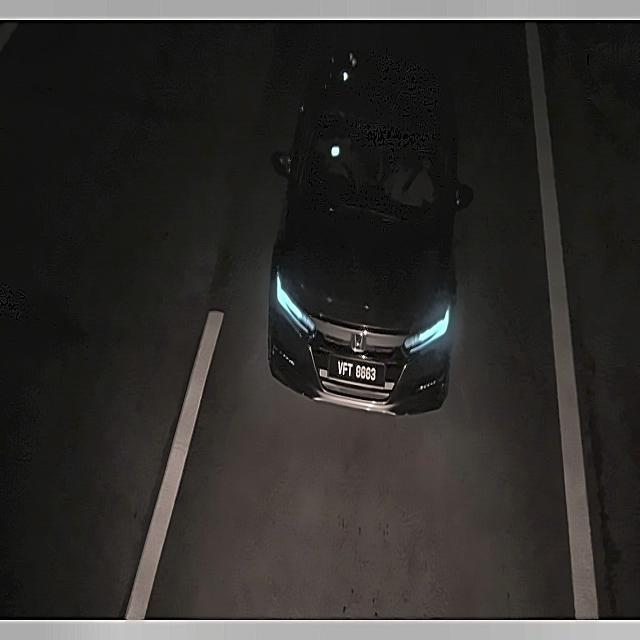car: (329, 354, 379, 394)
